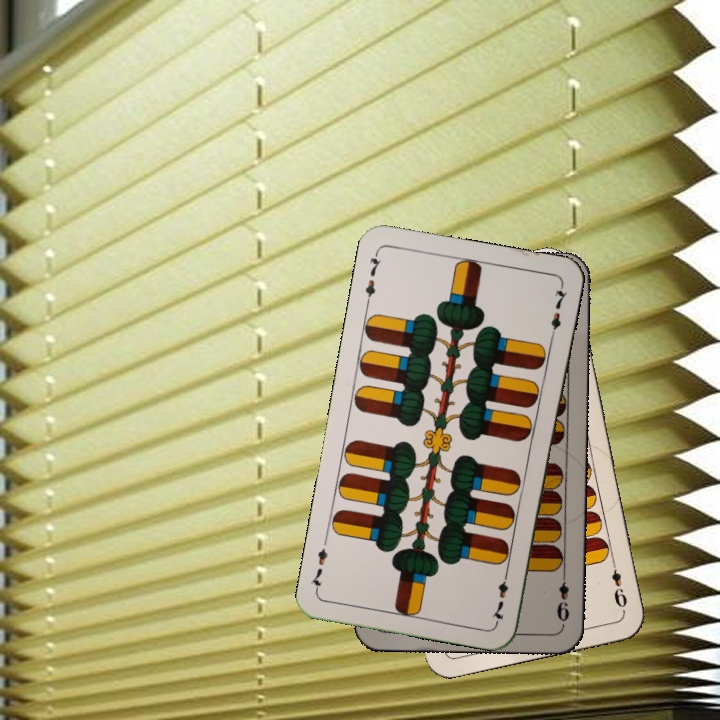E7: (488, 566, 511, 625), (361, 248, 384, 307)
E9: (607, 555, 630, 614), (553, 568, 572, 627)
